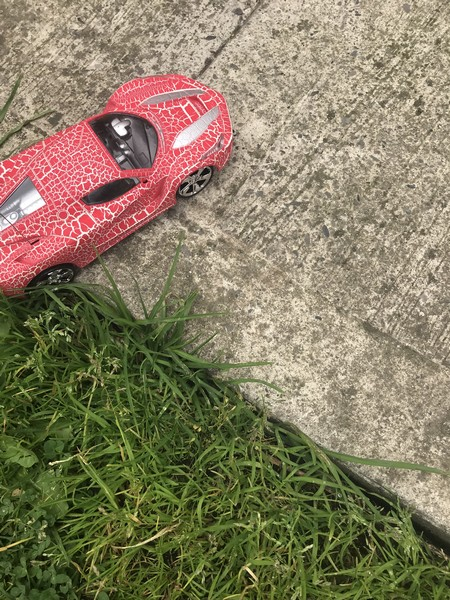RC: (1, 69, 235, 303)
